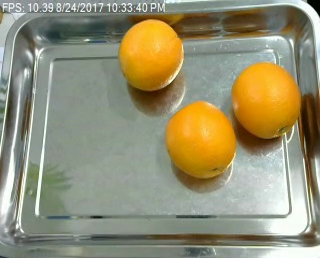Orange: (164, 100, 237, 178), (231, 61, 300, 138), (119, 17, 185, 89)
